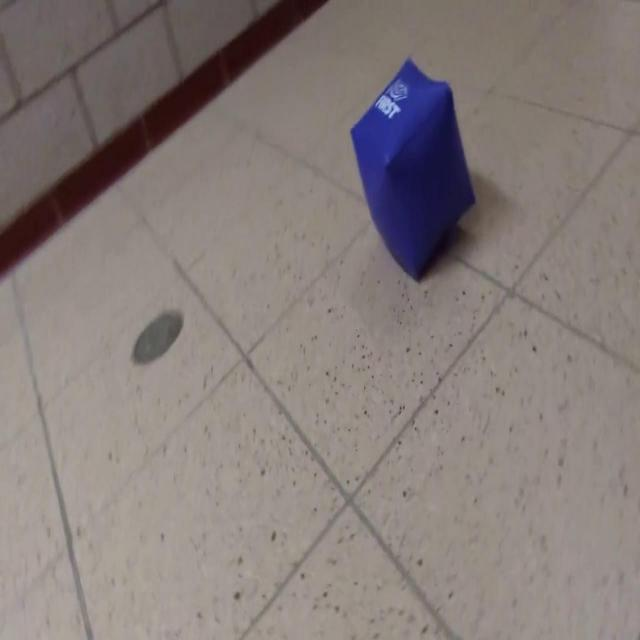frc_cube: (349, 60, 475, 282)
